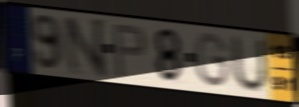8: (152, 26, 184, 85)
9: (30, 13, 66, 72)
G: (193, 31, 231, 91)
N: (62, 16, 109, 79)
P: (111, 23, 149, 80)
U: (231, 32, 270, 94)
